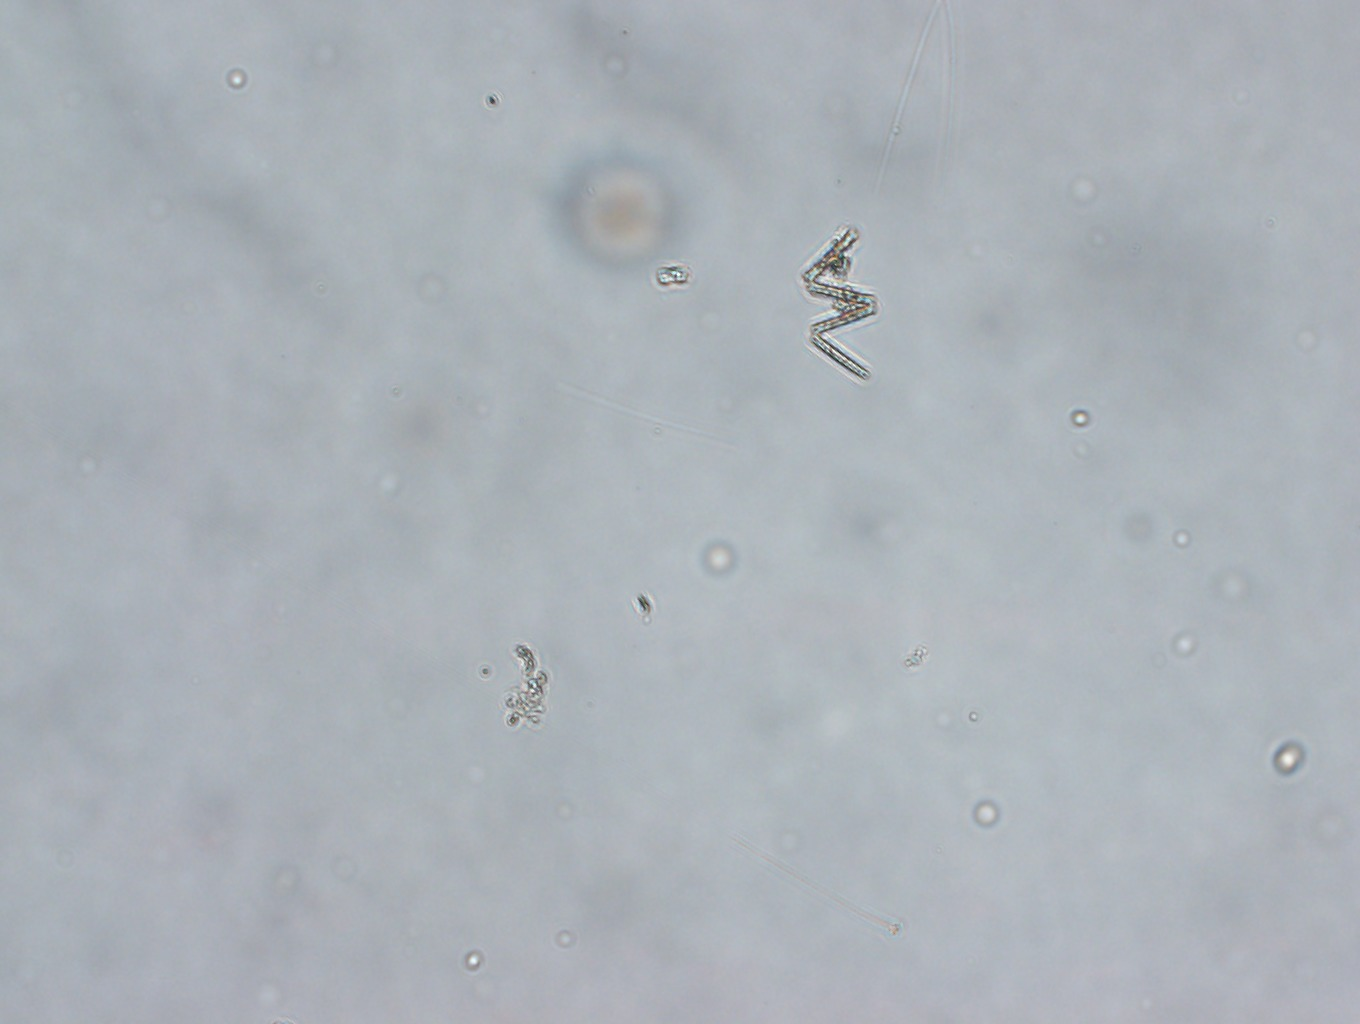thalassionema nitzschioides: (796, 223, 879, 384)
